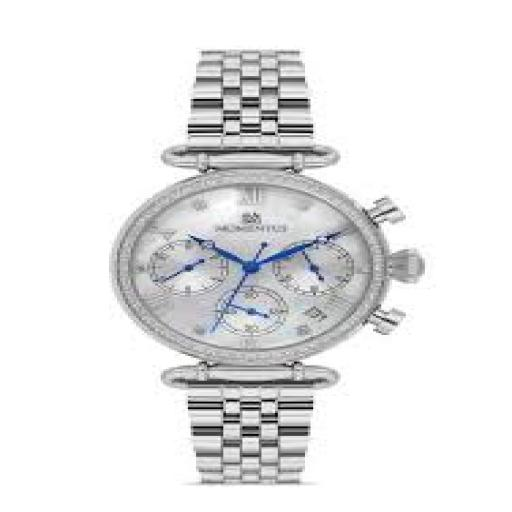KolSaati: (104, 22, 430, 509)
